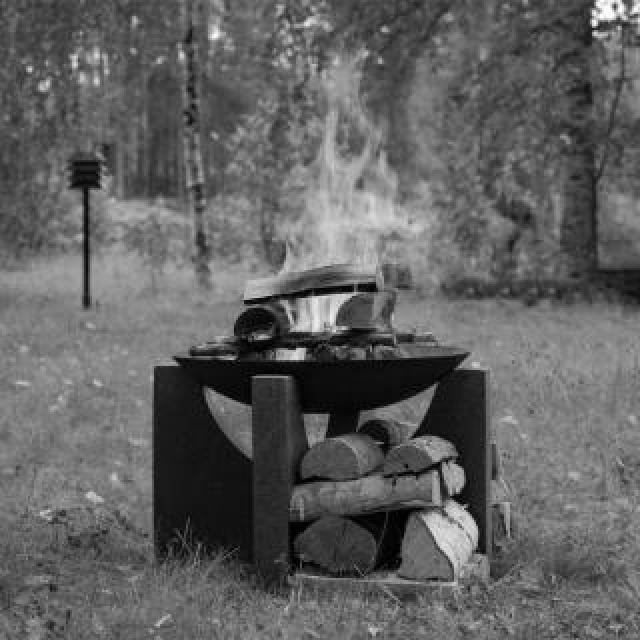Fire: (280, 48, 378, 318)
Smoke: (394, 12, 490, 324)
